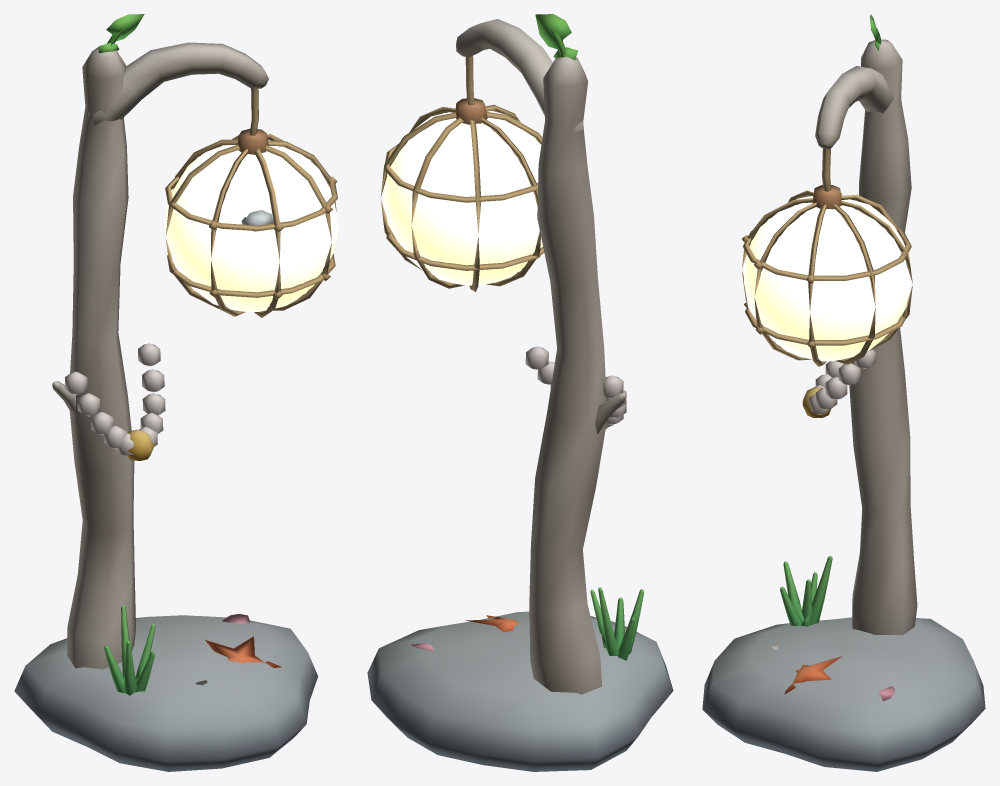
File: furn-trophySeaLantern.glb
The picture shows the model from 3 angles, left to right: view 1: azimuth 30°, elevation 25°; view 2: azimuth 150°, elevation 25°; view 3: azimuth 270°, elevation 25°; orthographic projection. The views are drawn at different scales.
Visible parts, largest first — view 1: furn-trophySeaLantern; view 2: furn-trophySeaLantern; view 3: furn-trophySeaLantern.
Boxes of the visible parts, box(x1,y1,x2,y2) form: furn-trophySeaLantern: box(14, 14, 338, 771); furn-trophySeaLantern: box(367, 14, 673, 771); furn-trophySeaLantern: box(702, 14, 985, 771).
Size of the model in its own units: 0.4699 by 1.19 by 0.4507.
